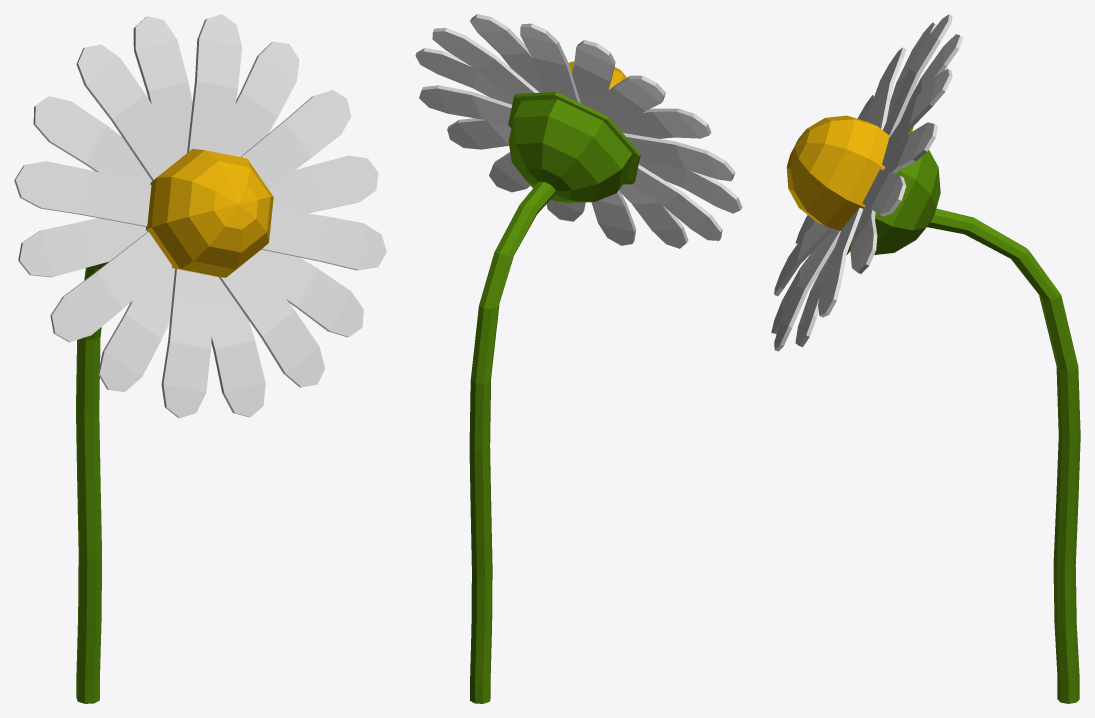
The model's file is daisy 2.0.fbx.
3 renders of one model, left to right at view 1: azimuth 30°, elevation 25°; view 2: azimuth 150°, elevation 25°; view 3: azimuth 270°, elevation 25°, orthographic. The views are drawn at different scales.
Visible parts, largest first — view 1: daisy:Mesh; view 2: daisy:Mesh; view 3: daisy:Mesh.
Boxes of the visible parts, bbox=[...] form: daisy:Mesh: bbox=[14, 14, 386, 703]; daisy:Mesh: bbox=[415, 14, 742, 703]; daisy:Mesh: bbox=[771, 14, 1080, 703].
Bounding box in the file's own units: 39.58 × 76.54 × 32.33.
